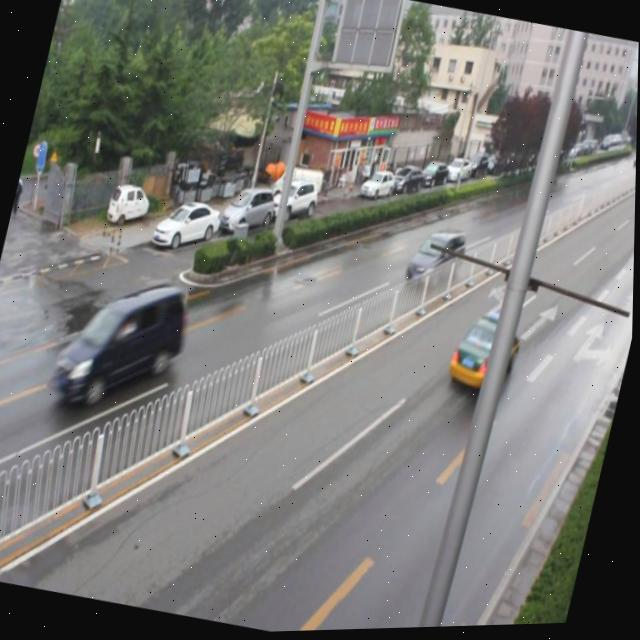car: (47, 262, 198, 423), (444, 307, 526, 401), (404, 225, 468, 296)
